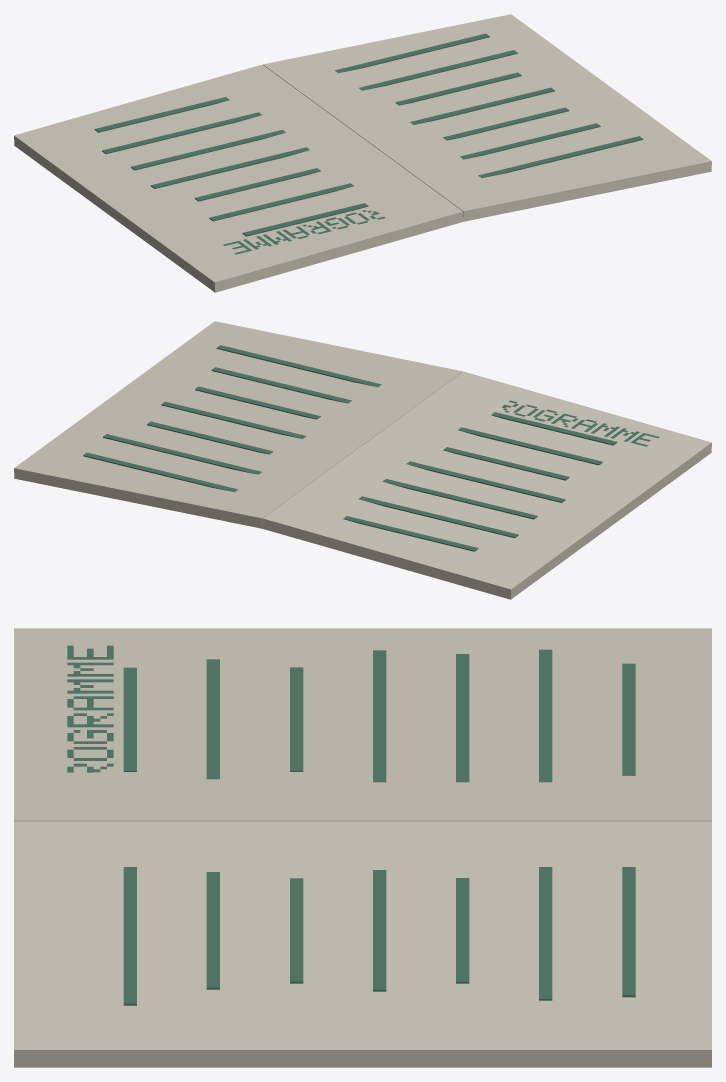
File: camp_programme_a_open.glb
The picture shows the model from 3 angles, top to bottom: view 1: azimuth 30°, elevation 25°; view 2: azimuth 150°, elevation 25°; view 3: azimuth 270°, elevation 25°; orthographic projection. The views are drawn at different scales.
Visible parts, largest first — view 1: body; view 2: body; view 3: body.
Boxes of the visible parts, x1,y1,x2,y2 form: body: [14, 14, 711, 292]; body: [14, 321, 711, 599]; body: [14, 628, 711, 1067].
Bounding box in the file's own units: 0.3001 × 0.012 × 0.21.
